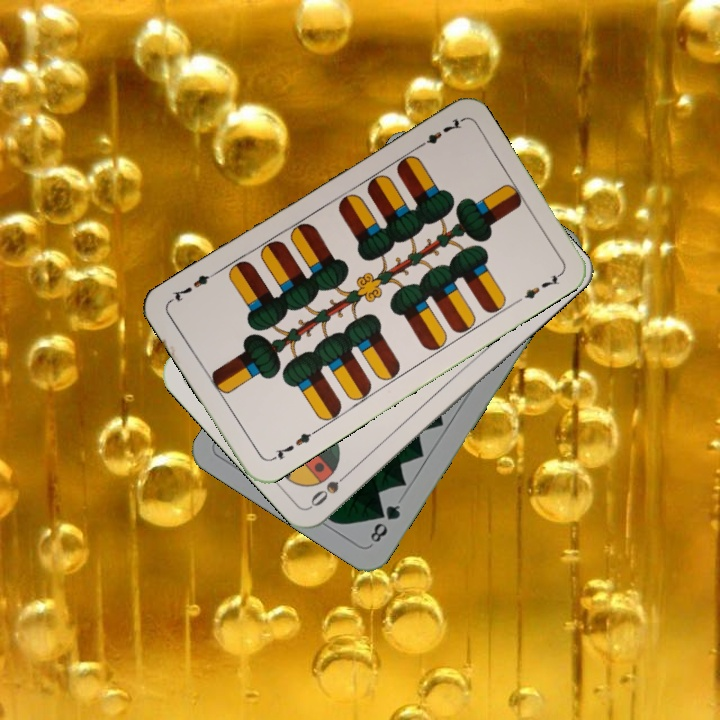E7: (411, 114, 465, 152), (266, 426, 319, 464)
G8: (366, 500, 403, 546)
SO: (306, 465, 355, 510)
